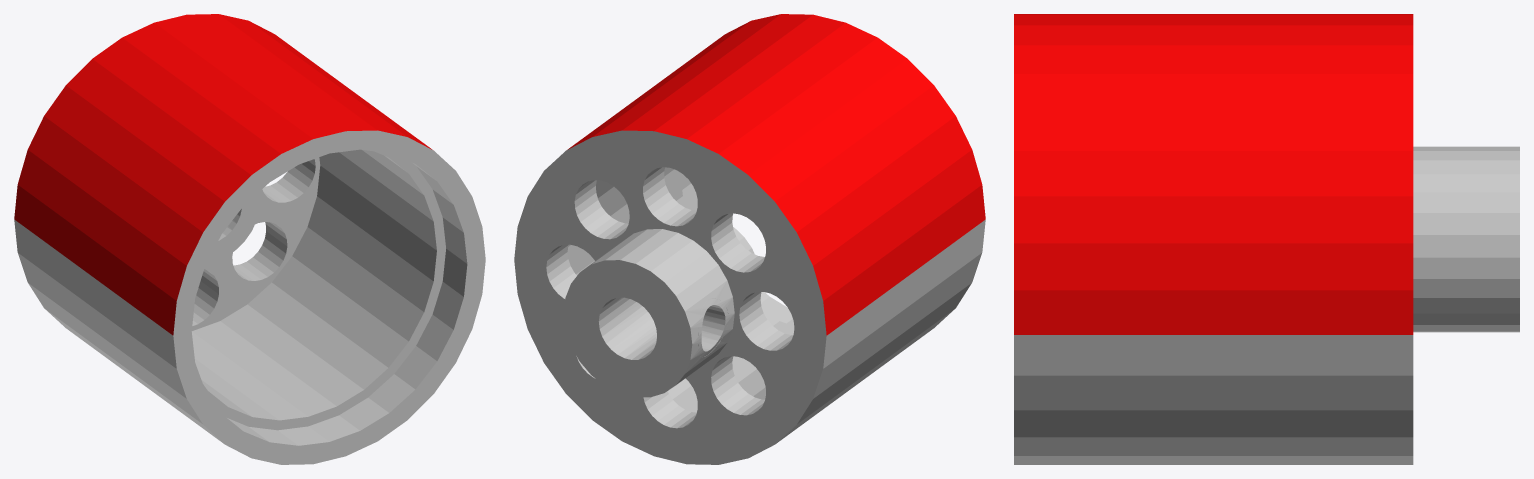
The model's file is cuboaluguel1_01_12714_2_stp_2.obj.
3 views of the same model, side by side, from view 1: azimuth 30°, elevation 25°; view 2: azimuth 150°, elevation 25°; view 3: azimuth 270°, elevation 25° (orthographic). The views are drawn at different scales.
Visible parts, largest first — view 1: Object1; view 2: Object1; view 3: Object1.
Boxes of the visible parts, x1,y1,x2,y2 form: Object1: (14, 14, 485, 464); Object1: (514, 14, 985, 464); Object1: (1014, 14, 1519, 464).
Size of the model in its own units: 17 by 16.91 by 19.
